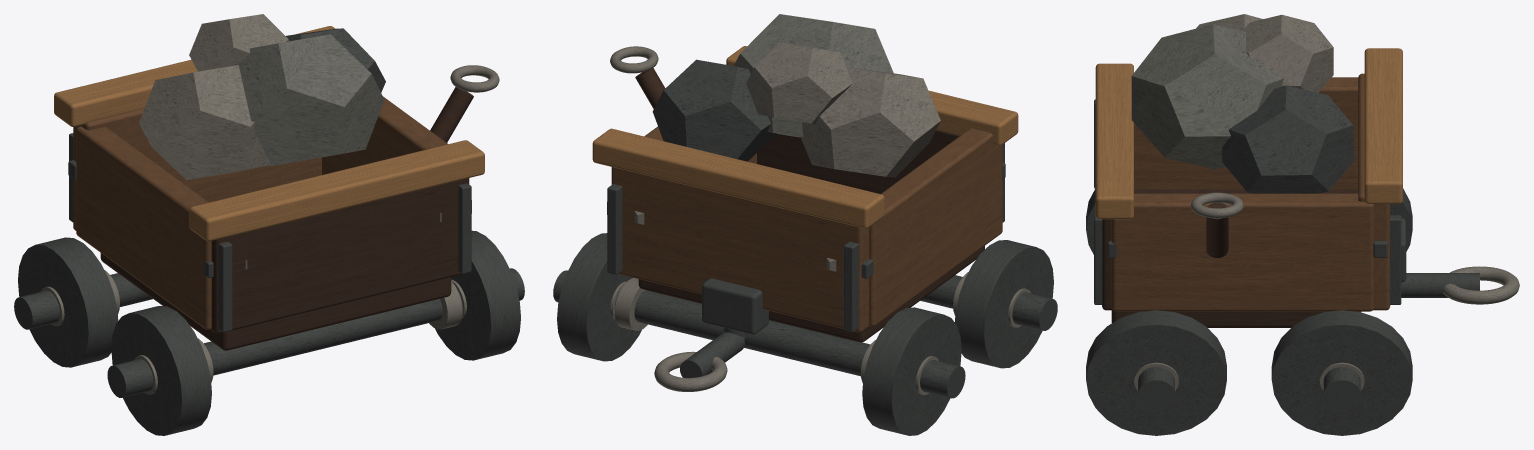
The model's file is mine_cart.glb.
The picture shows the model from 3 angles, left to right: view 1: azimuth 30°, elevation 25°; view 2: azimuth 150°, elevation 25°; view 3: azimuth 270°, elevation 25°; orthographic projection.
Visible parts, largest first — view 1: mine_cart; view 2: mine_cart; view 3: mine_cart.
Boxes of the visible parts, left/top/right/bottom form: mine_cart: left=14, top=14, right=524, bottom=435; mine_cart: left=553, top=14, right=1057, bottom=435; mine_cart: left=1086, top=14, right=1519, bottom=435.
Bounding box in the file's own units: 1.3 × 1 × 1.2.
Materials: 1 (1 with a texture image).
